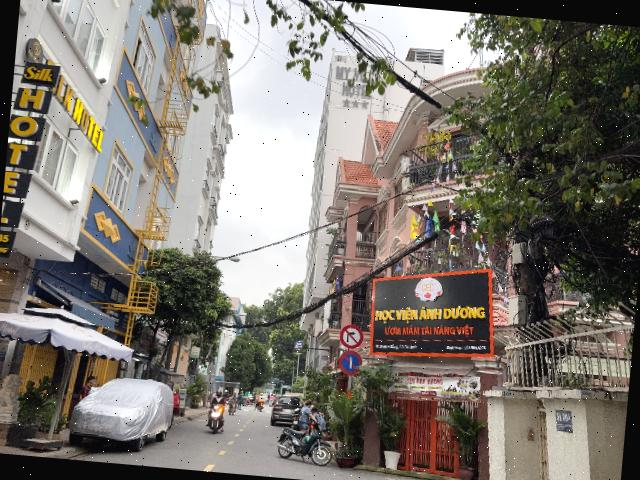cam-do-xe-ngay-le: (337, 349, 363, 376)
cam-re-phai: (338, 322, 364, 349)
